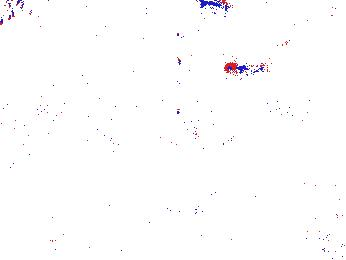X-ray fish: (181, 109, 239, 151)
red belly glassfish: (222, 60, 266, 76), (263, 35, 294, 54)
